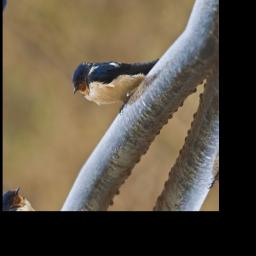Swallow: (64, 14, 160, 133)
